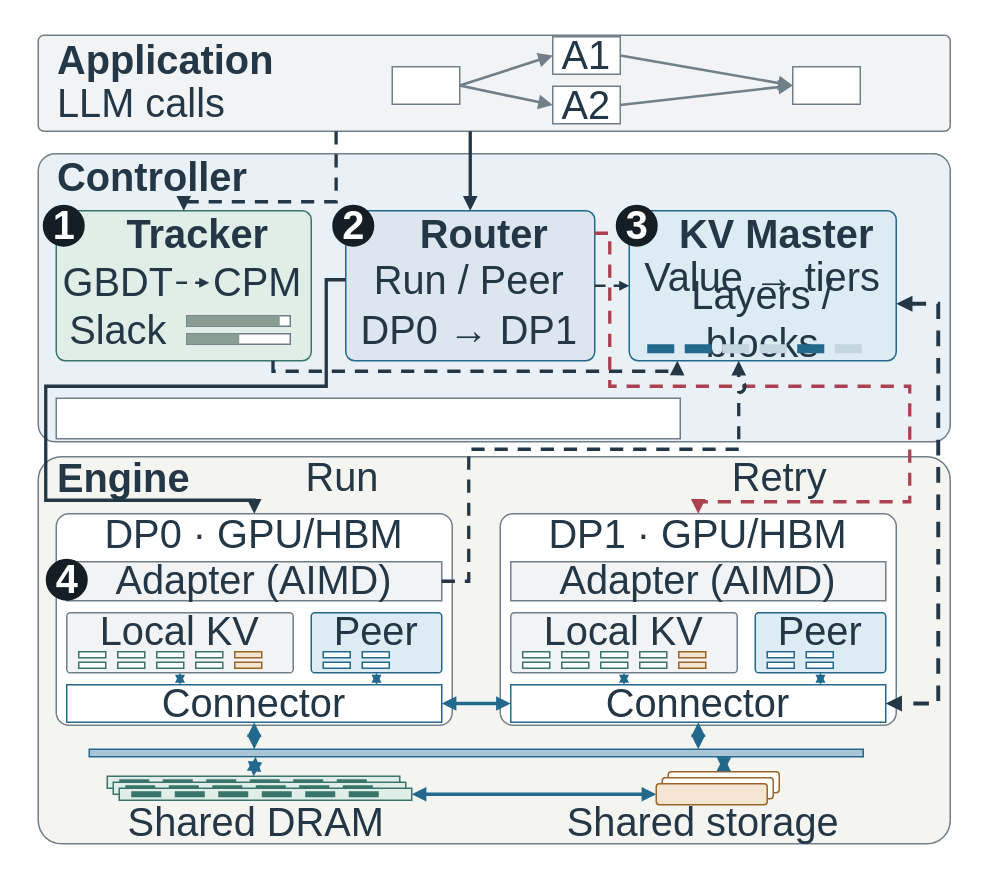
This 987x879 diagram has some shape labels left out. Here are the shapes that lost their labels. From the top down, the centre of each, then its label:
At pixel 425 84: "A0".
At pixel 825 84: "A3".
At pixel 367 418: "Locations · D/S credit".
